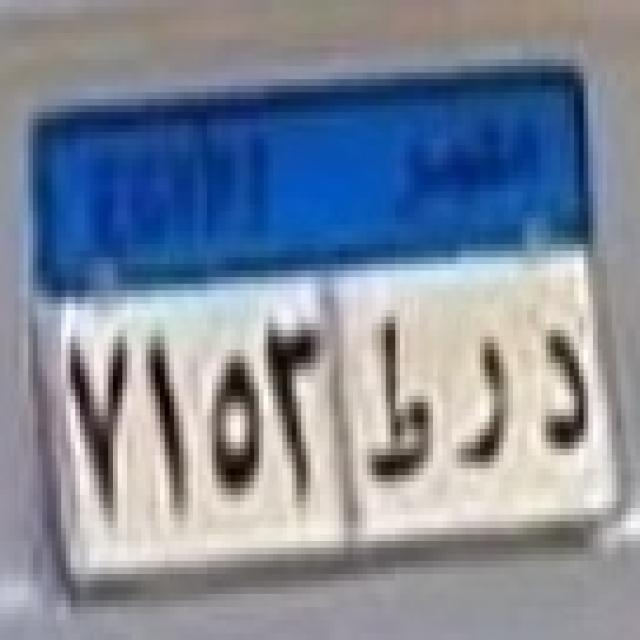1: (142, 327, 202, 530)
3: (265, 313, 334, 509)
5: (205, 348, 268, 504)
7: (60, 323, 145, 538)
Taa: (362, 304, 438, 487)
Wow: (450, 322, 519, 482)
daal: (534, 316, 598, 465)
